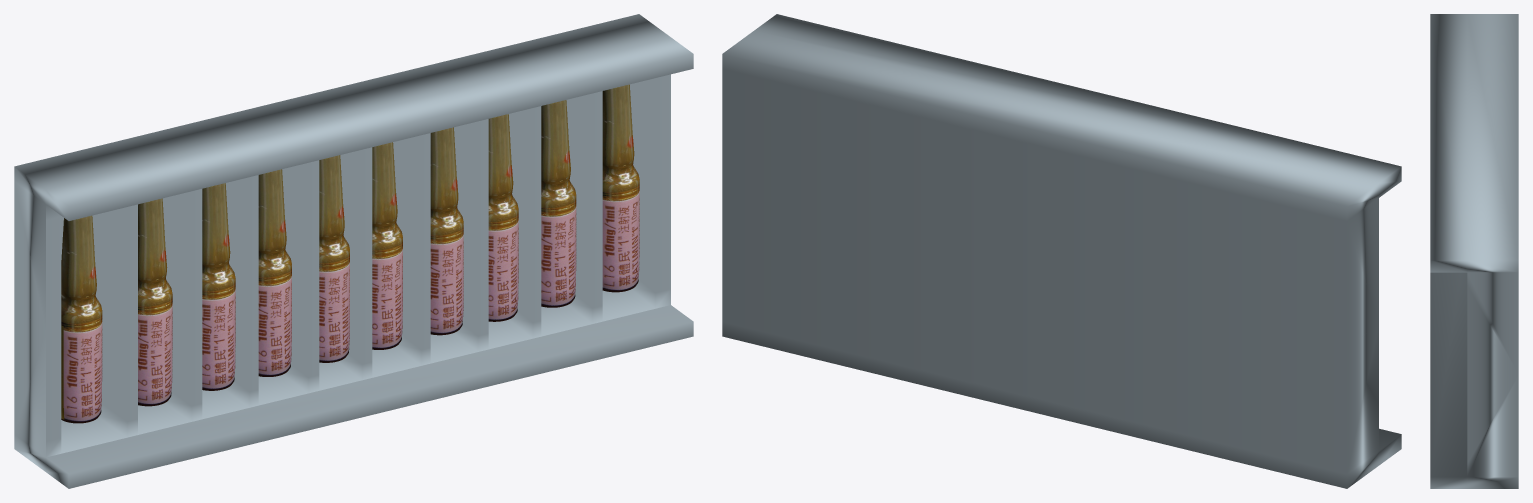
Rendered from 20180125GOPHDRGPT25130.fbx.
3 views of the same model, side by side, from view 1: azimuth 30°, elevation 25°; view 2: azimuth 150°, elevation 25°; view 3: azimuth 270°, elevation 25° (orthographic). The views are drawn at different scales.
Visible parts, largest first — view 1: Cube, Cylinder.008, Cylinder, Cylinder.001, Cylinder.009, Cylinder.004, Cylinder.002, Cylinder.005, Cylinder.006, Cylinder.007, Cylinder.003; view 2: Cube; view 3: Cube.
Part boxes in pixels (left/top/right/bottom): Cube: left=14, top=14, right=693, bottom=488; Cylinder.008: left=61, top=215, right=102, bottom=423; Cylinder: left=602, top=84, right=639, bottom=292; Cylinder.001: left=541, top=100, right=576, bottom=307; Cylinder.009: left=138, top=198, right=172, bottom=406; Cylinder.004: left=258, top=169, right=291, bottom=376; Cylinder.002: left=430, top=127, right=463, bottom=335; Cylinder.005: left=202, top=183, right=235, bottom=390; Cylinder.006: left=319, top=155, right=349, bottom=362; Cylinder.007: left=372, top=142, right=402, bottom=349; Cylinder.003: left=488, top=114, right=518, bottom=321; Cube: left=722, top=14, right=1401, bottom=488; Cube: left=1430, top=14, right=1518, bottom=488.
Size of the model in its own units: 192 by 83.01 by 29.09.
2 materials, 1 textured.
